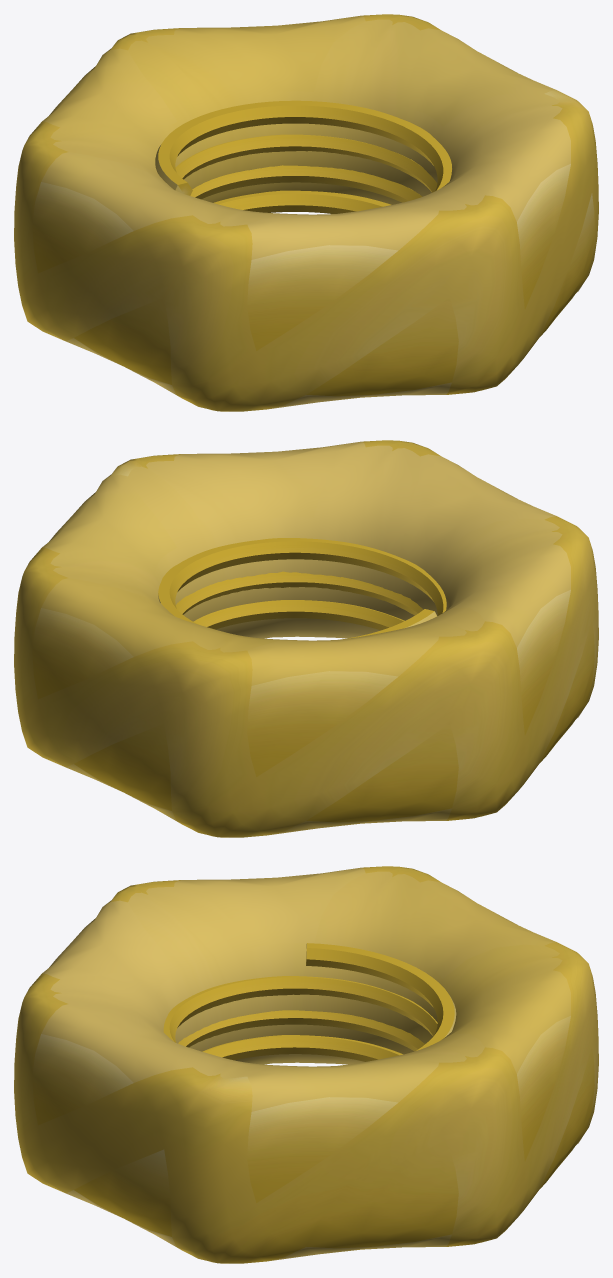
File: Cap1.fbx
3 views of the same model, one above another, from view 1: azimuth 30°, elevation 25°; view 2: azimuth 150°, elevation 25°; view 3: azimuth 270°, elevation 25° (orthographic).
Visible parts, largest first — view 1: Cylinder01, Spring01; view 2: Cylinder01, Spring01; view 3: Cylinder01, Spring01.
Boxes of the visible parts, bbox=[...] form: Cylinder01: bbox=[14, 14, 598, 411]; Spring01: bbox=[155, 100, 451, 213]; Cylinder01: bbox=[14, 440, 598, 837]; Spring01: bbox=[158, 538, 446, 638]; Cylinder01: bbox=[14, 866, 598, 1263]; Spring01: bbox=[163, 943, 456, 1061].
Size of the model in its own units: 51.66 by 18.2 by 53.49.
1 material, 1 textured.
